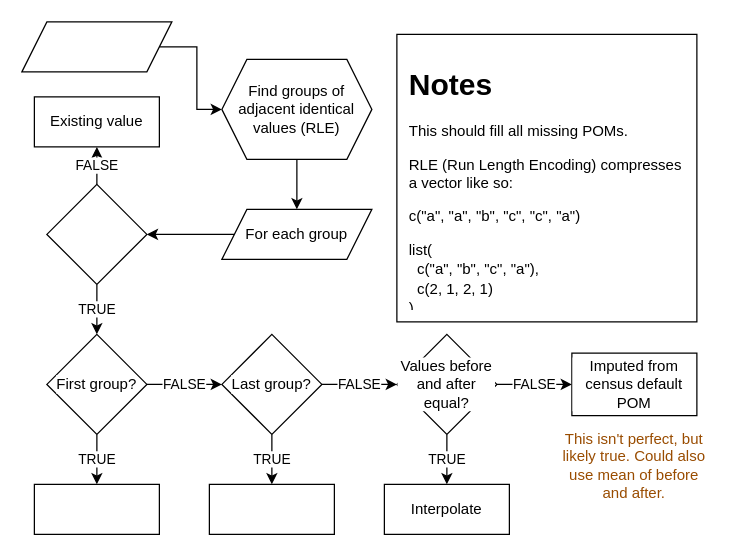
Some shapes in this 731 by 556 pixel diagram are drawn without their labels. The centre of each missing label's shape, as x and y in pixels:
Extrapolate backwards: [96,508]
Extrapolate forwards: [271,508]
For each stem: [96,46]
Missing? (NA): [96,233]
